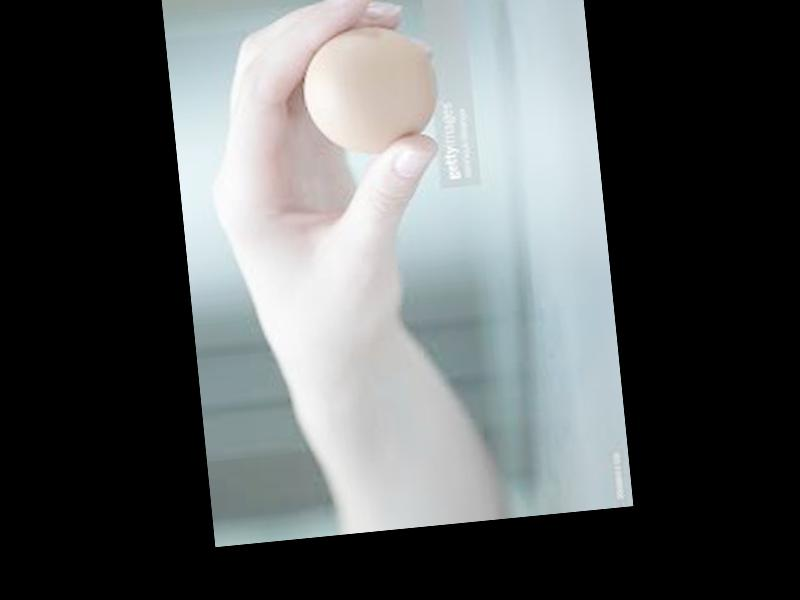Eggs: (296, 20, 445, 162)
